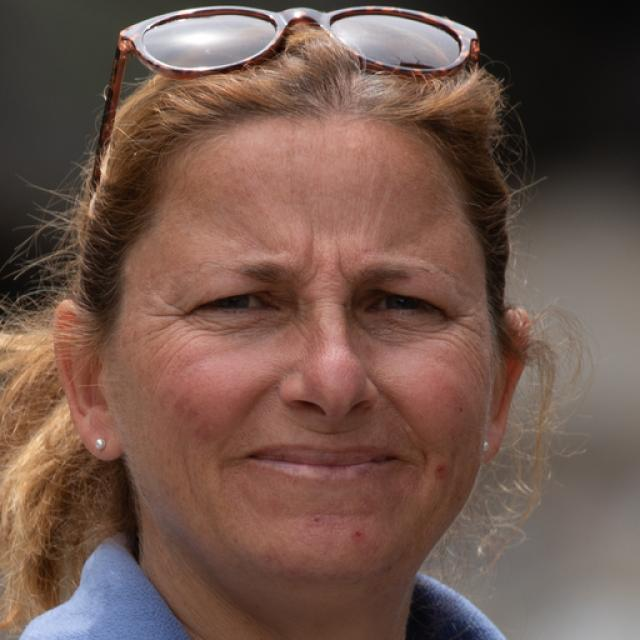disgust: (112, 102, 496, 598)
